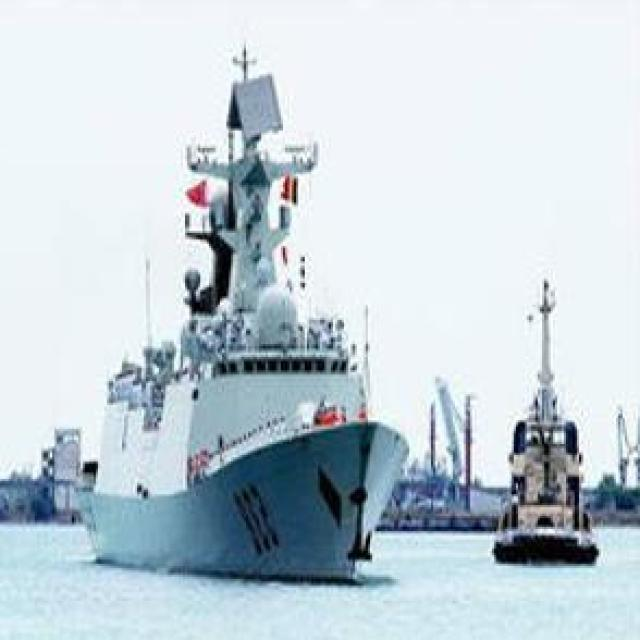navalvessels: (70, 70, 418, 588), (474, 282, 596, 568)
